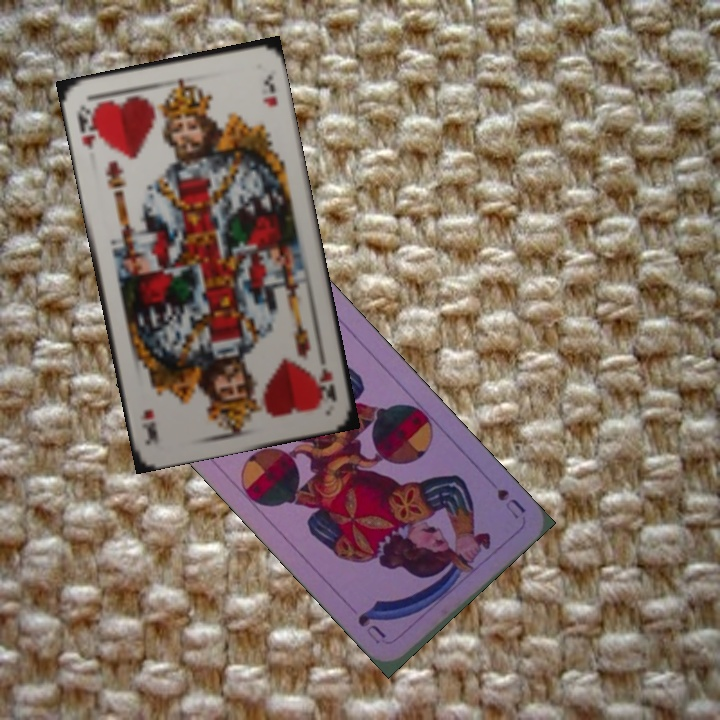HK: (73, 101, 102, 152), (314, 348, 340, 404)
SU: (492, 484, 529, 522)
